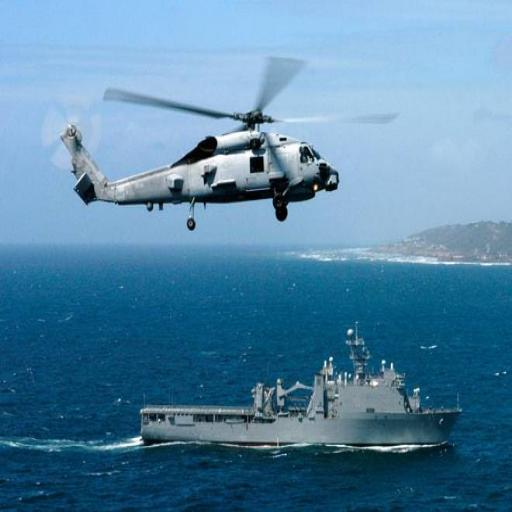helicopter: (40, 45, 367, 239), (128, 315, 474, 466)
